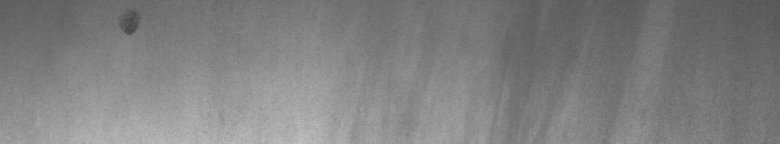fi: (116, 6, 144, 40)
